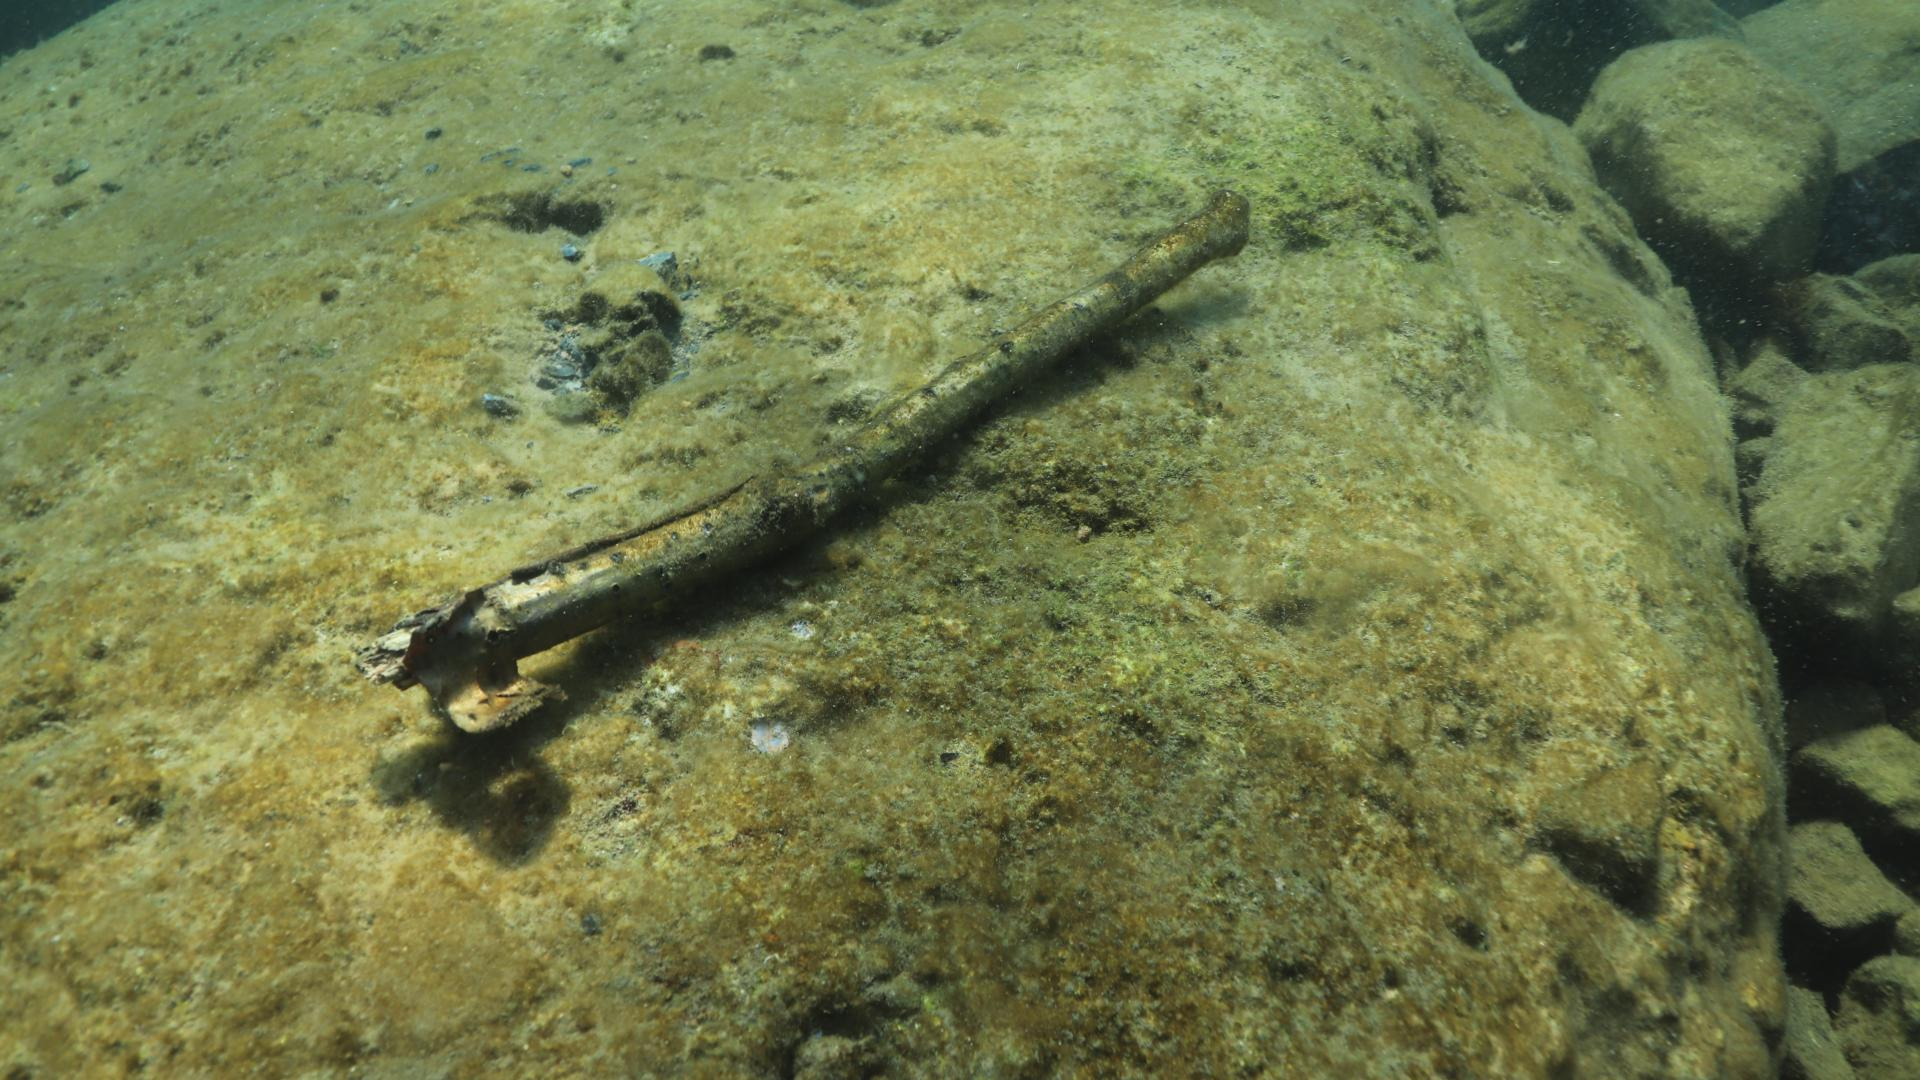wood: (349, 186, 1253, 729)
